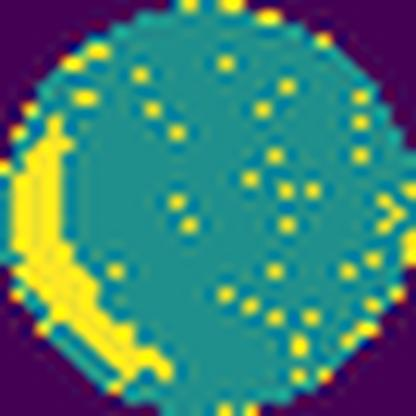Loc: (8, 114, 173, 382)
